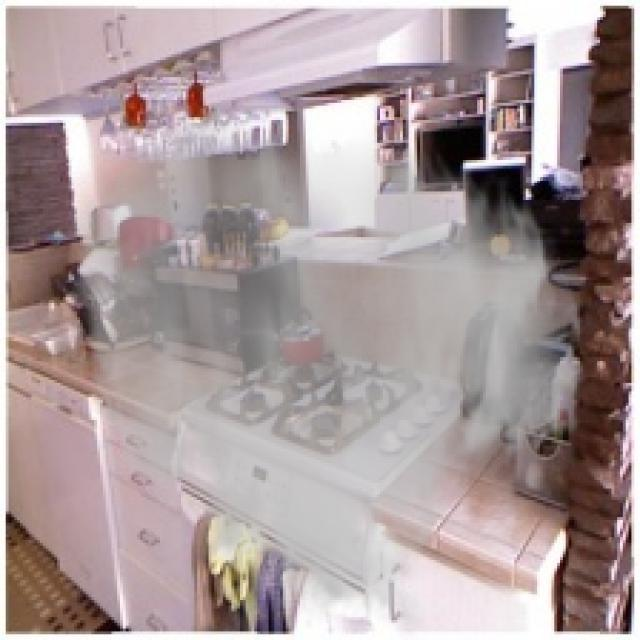Smoke: (63, 105, 592, 638)
